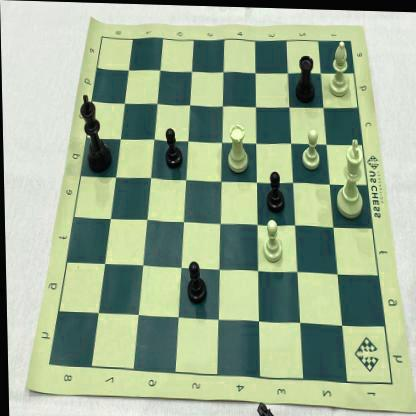black-king: (78, 90, 115, 176)
black-pawn: (182, 252, 209, 306), (262, 167, 286, 214), (162, 124, 184, 172)
black-rook: (292, 50, 317, 104)
white-bishop: (327, 36, 352, 98)
white-king: (332, 134, 367, 221)
white-pawn: (258, 215, 284, 263), (298, 123, 322, 170)
white-rook: (224, 120, 250, 176)
